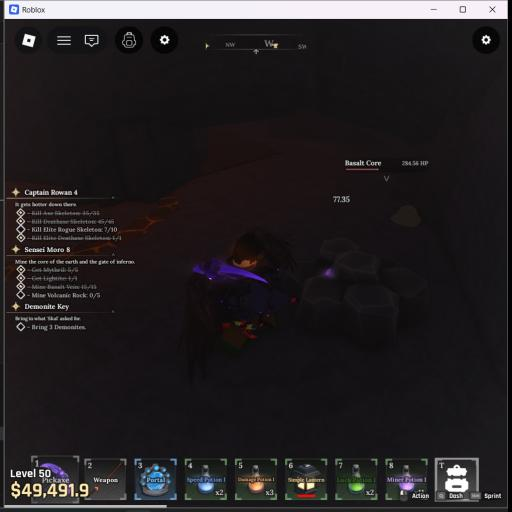player: (180, 227, 295, 381)
rock: (286, 238, 428, 346)
